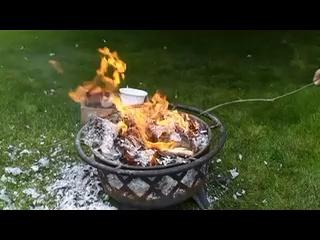Fire: (71, 46, 193, 148)
